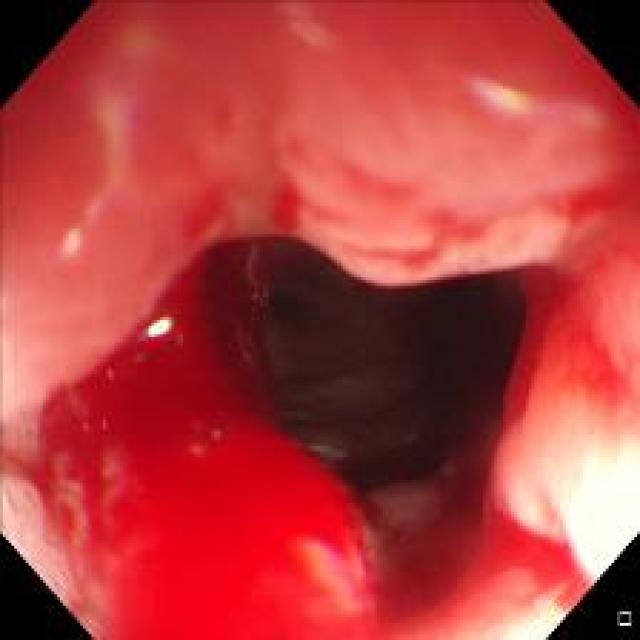blood: (39, 271, 562, 635)
blur: (2, 2, 638, 289)
contrast: (209, 228, 554, 516)
saturation: (515, 406, 636, 571)
specularity: (139, 312, 175, 340)
